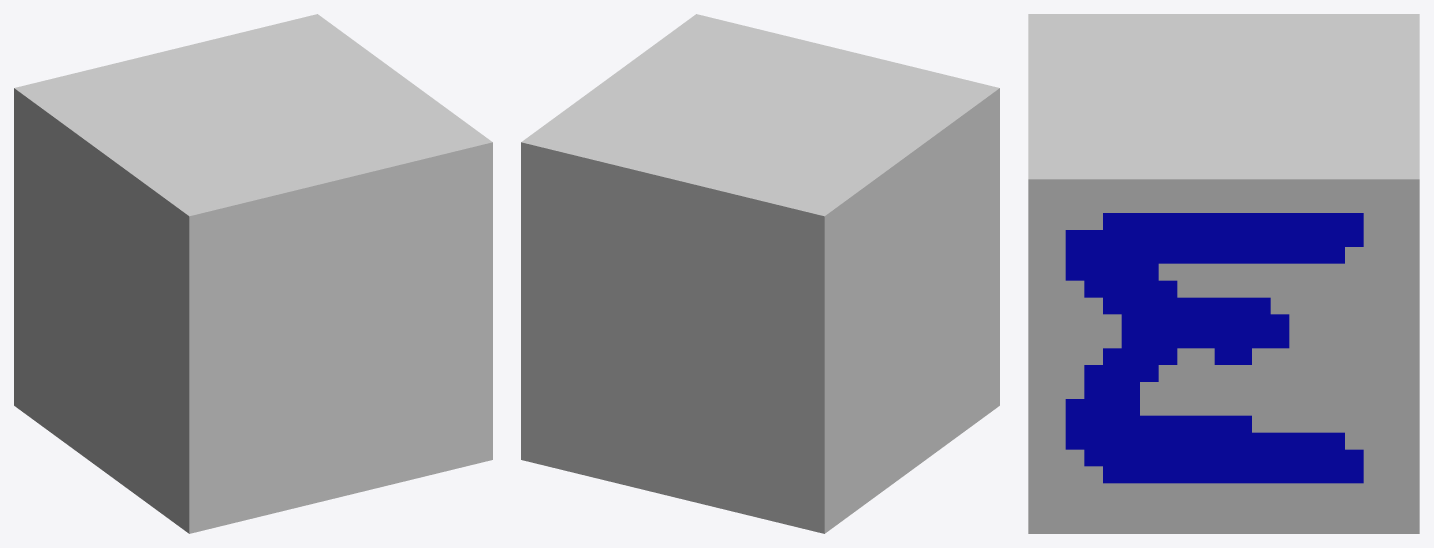
Rendered from eBox.fbx.
The picture shows the model from 3 angles, left to right: view 1: azimuth 30°, elevation 25°; view 2: azimuth 150°, elevation 25°; view 3: azimuth 270°, elevation 25°; orthographic projection. The views are drawn at different scales.
Visible parts, largest first — view 1: Cube; view 2: Cube; view 3: Cube.
Part boxes in pixels (x1,y1,x2,y2): Cube: (14, 14, 492, 533); Cube: (521, 14, 999, 533); Cube: (1028, 14, 1419, 533).
Bounding box in the file's own units: 200 × 200 × 200.
